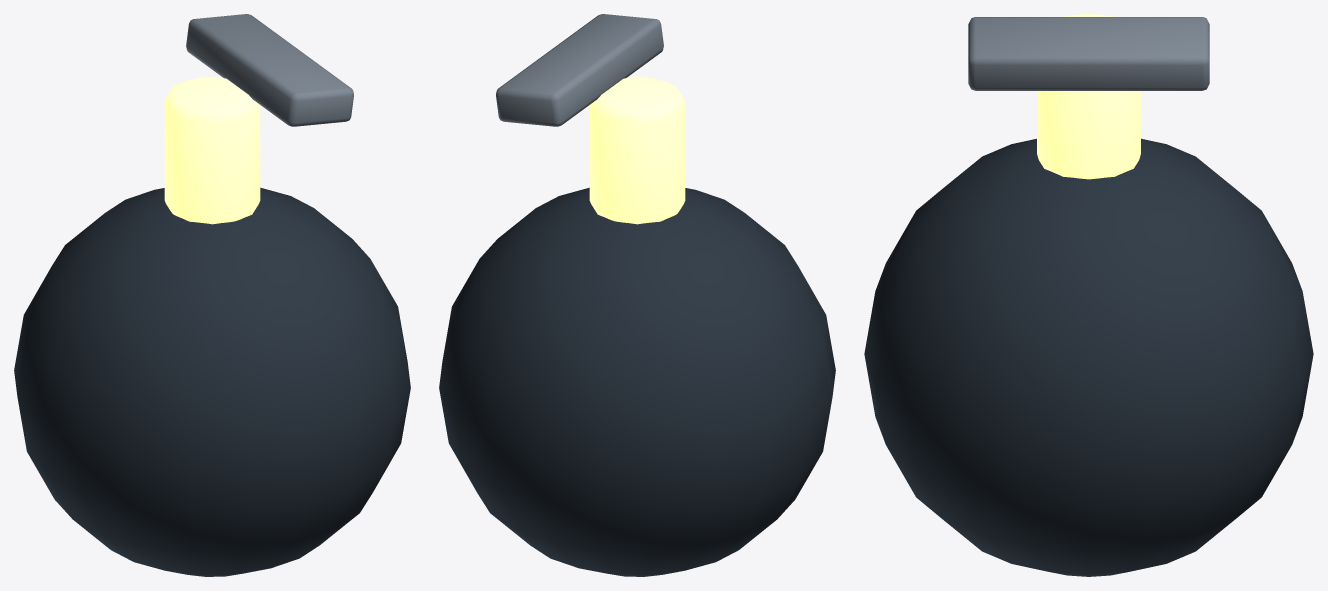
Rendered from Doombringer_FragGrenade.fbx.
The picture shows the model from 3 angles, left to right: view 1: azimuth 30°, elevation 25°; view 2: azimuth 150°, elevation 25°; view 3: azimuth 270°, elevation 25°; orthographic projection. The views are drawn at different scales.
Parts seen in each view (by area): view 1: Core.008, Fuse.008, SafetyLever.008; view 2: Core.008, Fuse.008, SafetyLever.008; view 3: Core.008, SafetyLever.008, Fuse.008.
Part boxes in pixels (box(x1,y1,x2,y2)): Core.008: box(14, 187, 410, 576); Fuse.008: box(164, 76, 260, 224); SafetyLever.008: box(186, 14, 353, 126); Core.008: box(439, 187, 835, 576); Fuse.008: box(589, 76, 685, 224); SafetyLever.008: box(496, 14, 663, 126); Core.008: box(864, 138, 1313, 576); SafetyLever.008: box(968, 17, 1209, 90); Fuse.008: box(1037, 14, 1140, 179).
Bounding box in the file's own units: 108 × 148 × 108.
